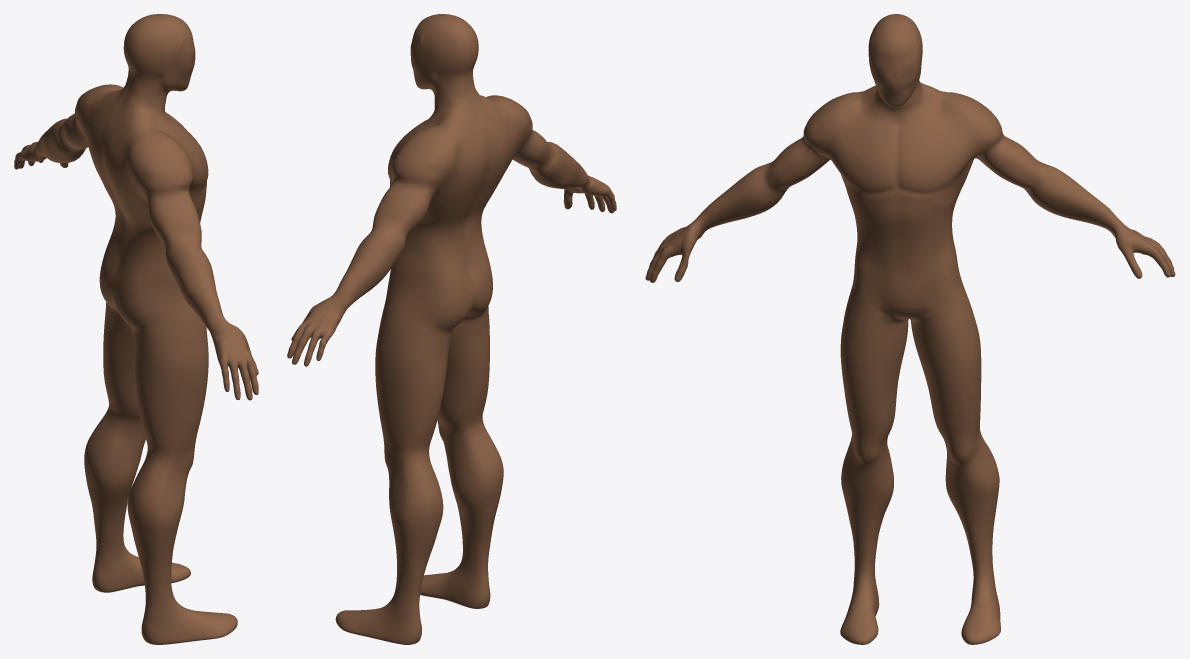
The model's file is anatomia.gltf.
The picture shows the model from 3 angles, left to right: view 1: azimuth 30°, elevation 25°; view 2: azimuth 150°, elevation 25°; view 3: azimuth 270°, elevation 25°; orthographic projection. The views are drawn at different scales.
Visible parts, largest first — view 1: BaseSpiderMan_Mesh_Model001_24_GTAMtl_1.0_0.0_0.001; view 2: BaseSpiderMan_Mesh_Model001_24_GTAMtl_1.0_0.0_0.001; view 3: BaseSpiderMan_Mesh_Model001_24_GTAMtl_1.0_0.0_0.001.
Boxes of the visible parts, x1,y1,x2,y2 form: BaseSpiderMan_Mesh_Model001_24_GTAMtl_1.0_0.0_0.001: (14,14,258,644); BaseSpiderMan_Mesh_Model001_24_GTAMtl_1.0_0.0_0.001: (287,14,616,644); BaseSpiderMan_Mesh_Model001_24_GTAMtl_1.0_0.0_0.001: (645,14,1175,644).
Size of the model in its own units: 2.25 by 10.46 by 8.4.
